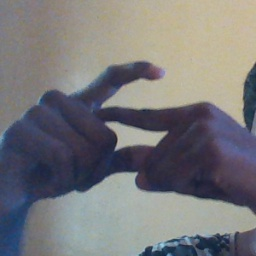E: (73, 55, 182, 183)
